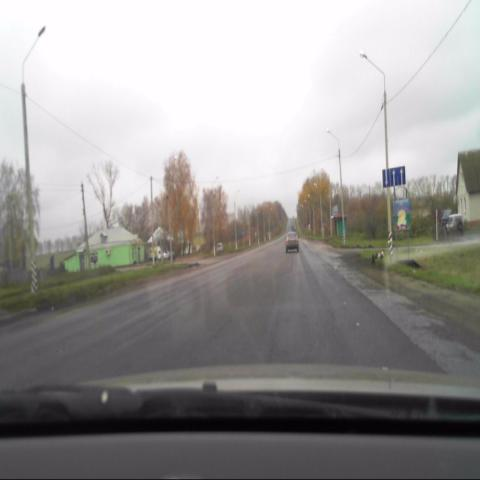5_15_7: (381, 165, 405, 189)
